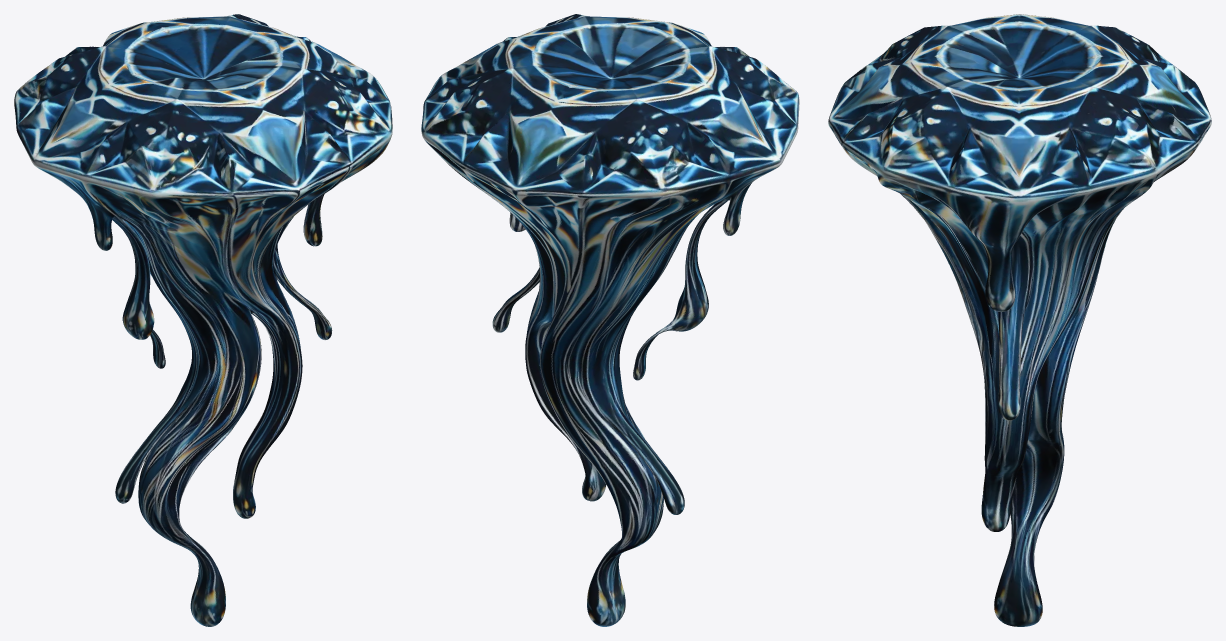
The model's file is Meshy_AI_Liquid_Diamond_0804231912_texture-optimized_qeygwd.glb.
3 views of the same model, side by side, from view 1: azimuth 30°, elevation 25°; view 2: azimuth 150°, elevation 25°; view 3: azimuth 270°, elevation 25° (orthographic).
Bounding box in the file's own units: 1.19 × 1.9 × 1.16.
Materials: 1 (1 with a texture image).
